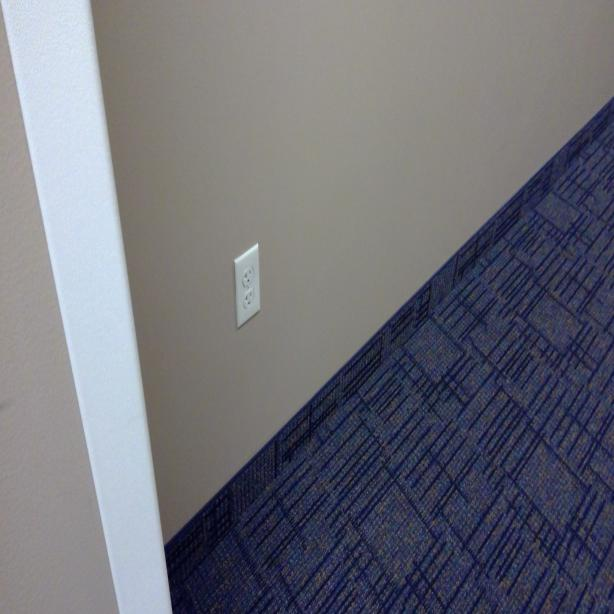typeb: (242, 291, 255, 311), (242, 269, 254, 288)
